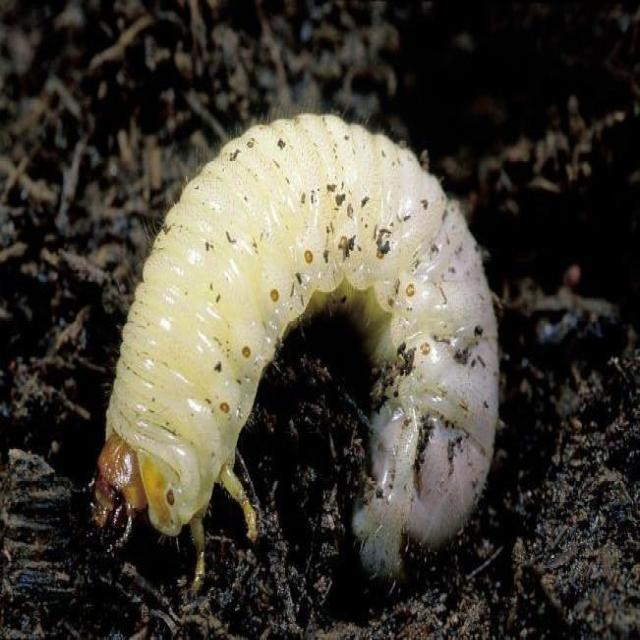grub: (88, 116, 495, 567)
